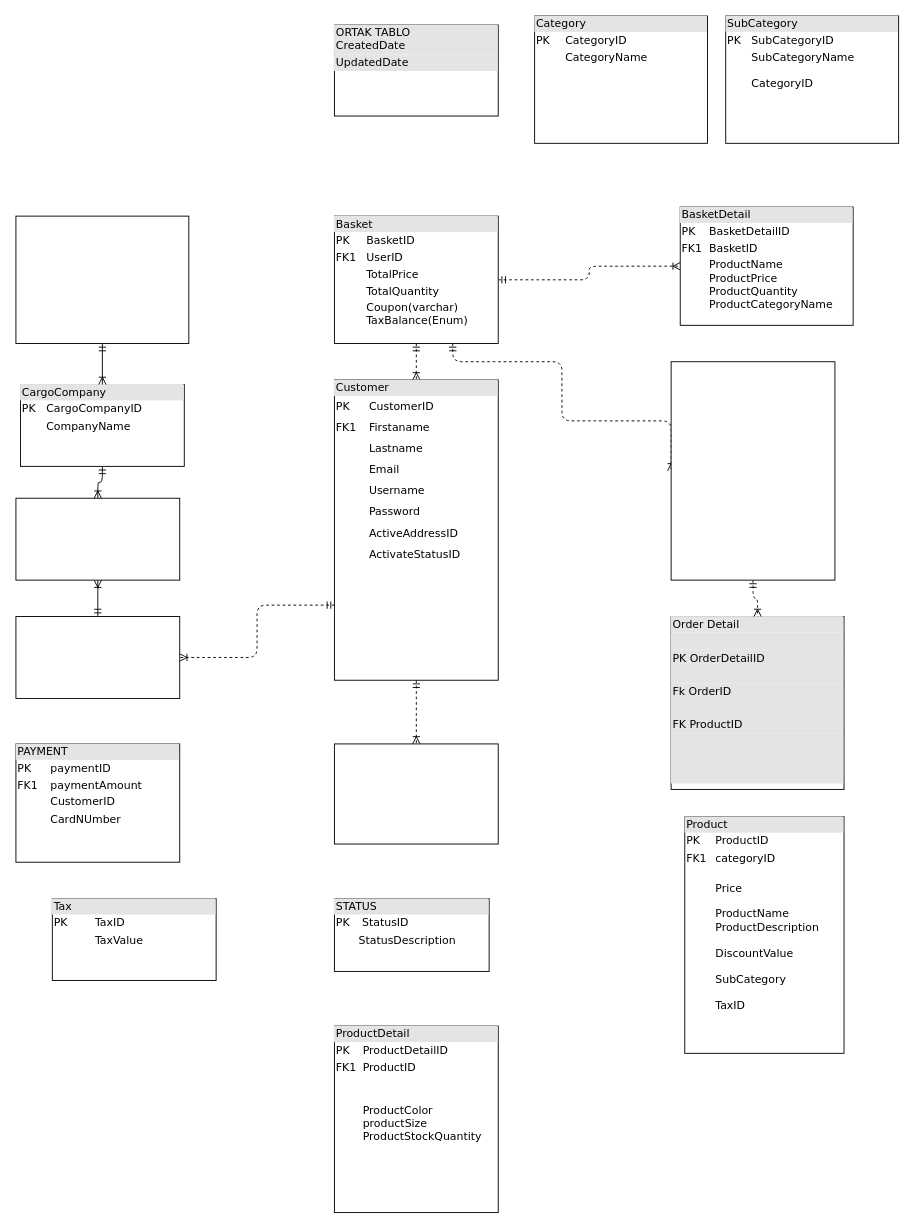
This 915x1229 diagram has some shape labels left out. The centre of each missing label's shape, as x and y in pixels:
"Address PK AddressID FK1 ProvinceID Country Street district DoorNo ApartmentNo" goes at pixel 102 279.
"City PK CityID CityName" goes at pixel 97 538.
"Coupon PK CouponID CouponCode CouponDescription" goes at pixel 97 657.
"Favorite PK FavoriteID FavoriteProductId" goes at pixel 416 793.
"Order PK OrderID FK1 BasketID FK1 PaymentID StatuID FK CArgoCompanyID" goes at pixel 752 470.
